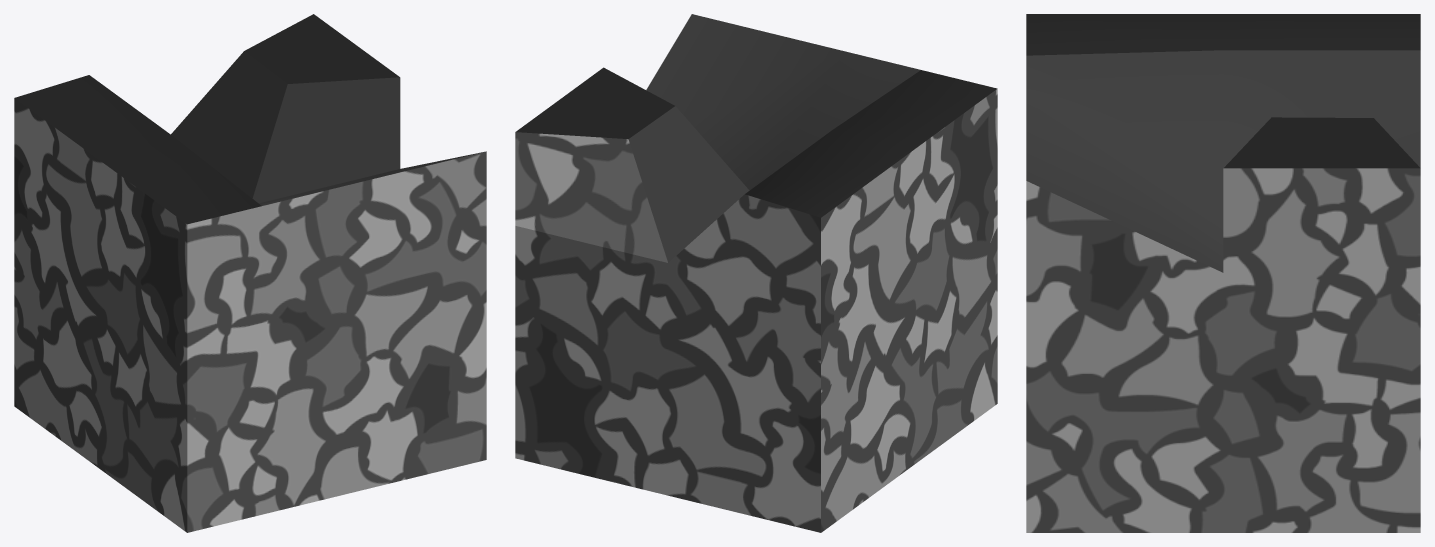
The model's file is cubo.FBX.
3 views of the same model, side by side, from view 1: azimuth 30°, elevation 25°; view 2: azimuth 150°, elevation 25°; view 3: azimuth 270°, elevation 25° (orthographic). The views are drawn at different scales.
Visible parts, largest first — view 1: Box001; view 2: Box001; view 3: Box001.
Part boxes in pixels (x1,y1,x2,y2): Box001: (14,14,486,532); Box001: (515,14,997,532); Box001: (1026,14,1420,532).
Size of the model in its own units: 34.16 by 34.84 by 34.16.
